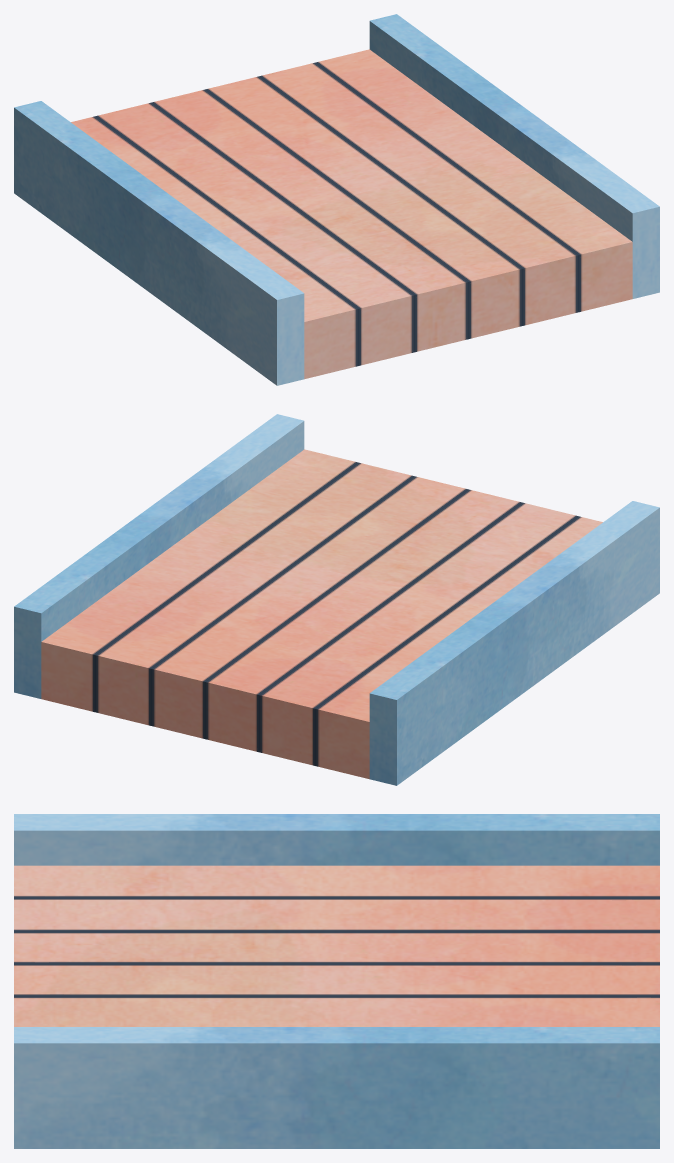
File: Stage_straight.fbx
3 views of the same model, one above another, from view 1: azimuth 30°, elevation 25°; view 2: azimuth 150°, elevation 25°; view 3: azimuth 270°, elevation 25° (orthographic). The views are drawn at different scales.
Visible parts, largest first — view 1: Stage_straight; view 2: Stage_straight; view 3: Stage_straight.
Part boxes in pixels (x1,y1,x2,y2): Stage_straight: [14, 14, 659, 385]; Stage_straight: [14, 414, 659, 785]; Stage_straight: [14, 814, 659, 1148].
Bounding box in the file's own units: 840 × 180 × 1000.
